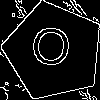O: (28, 26, 73, 76)
